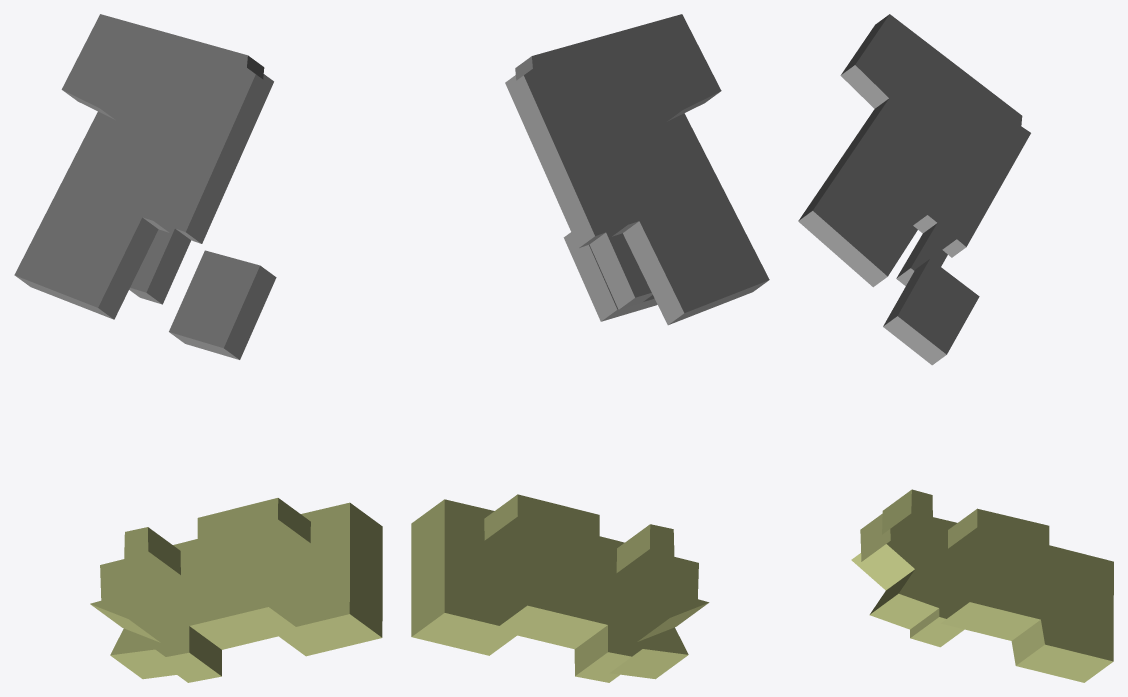
3 views of the same model, side by side, from view 1: azimuth 30°, elevation 25°; view 2: azimuth 150°, elevation 25°; view 3: azimuth 330°, elevation 25° (orthographic). The views are drawn at different scales.
Visible parts, largest first — view 1: 0_1_0_3_1_1_1; view 2: 0_1_0_3_1_1_1; view 3: 0_1_0_3_1_1_1.
Boxes of the visible parts, box(x1,y1,x2,y2) form: 0_1_0_3_1_1_1: box(14, 14, 382, 682); 0_1_0_3_1_1_1: box(411, 14, 769, 682); 0_1_0_3_1_1_1: box(798, 14, 1113, 682).
Size of the model in its own units: 35.61 by 67 by 8.5.
